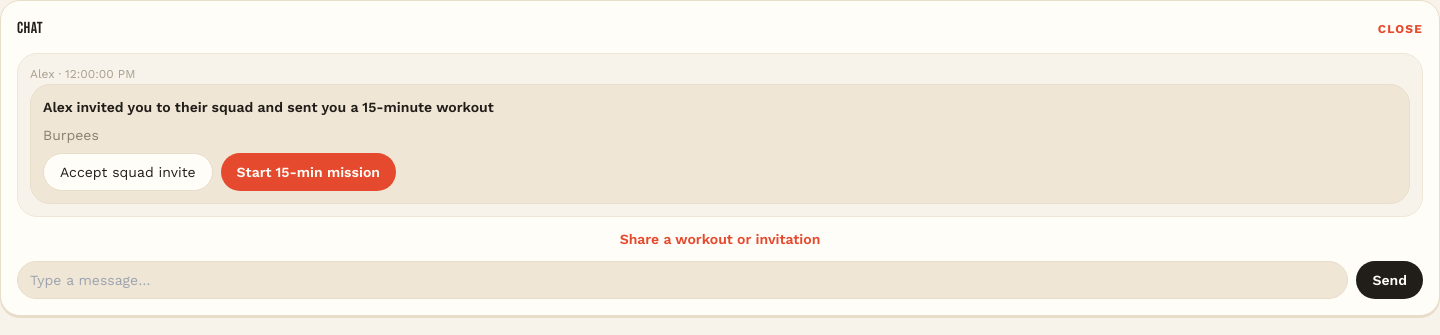
Scenario: MissionChat › accepts a squad invite on a chat card and hides the button
Click the button "Accept squad invite" at (128, 172), box [43,153,213,191]
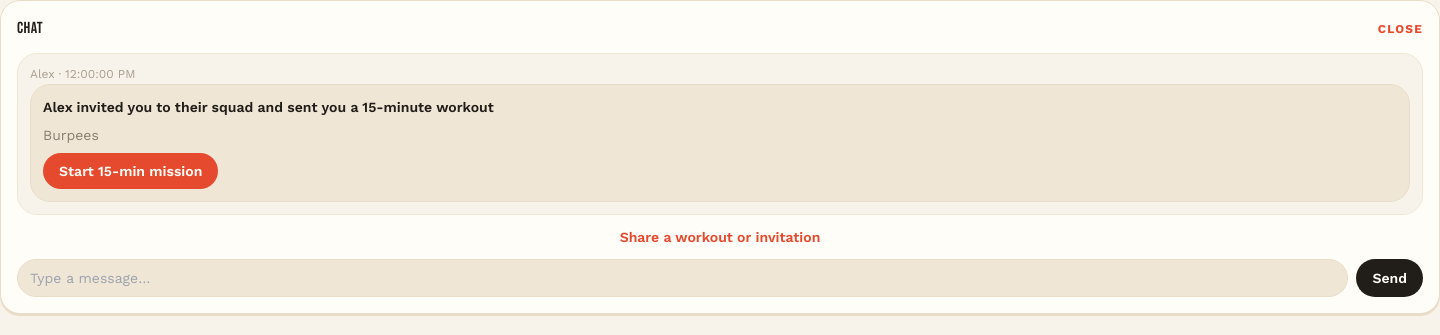
expect the button "Accept squad invite" is gone: met
